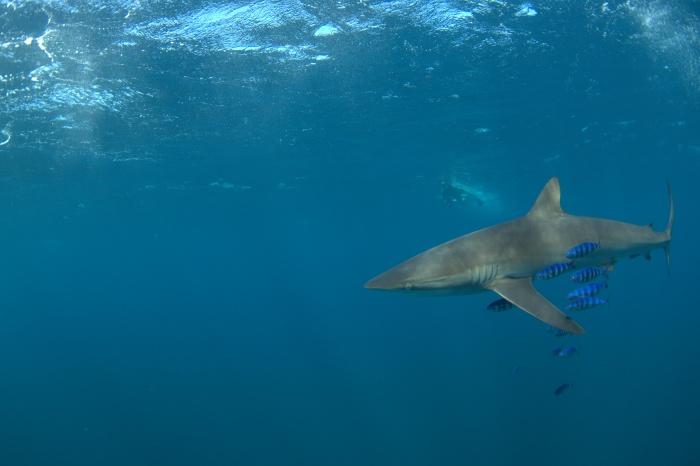Sedoso: (362, 169, 683, 352)
